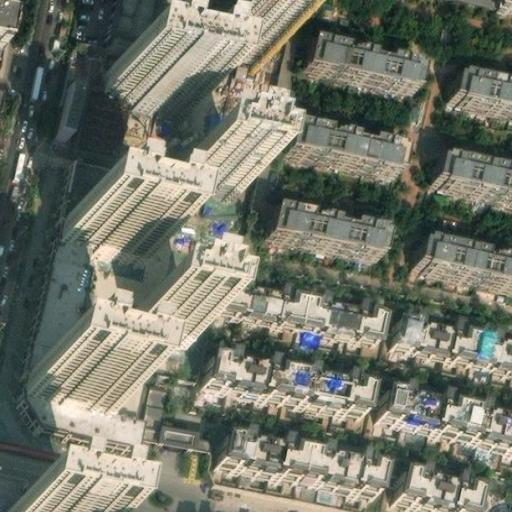building: (213, 431, 380, 497), (212, 275, 383, 338), (200, 348, 366, 411), (36, 230, 102, 363), (377, 382, 512, 447), (390, 308, 512, 366), (26, 383, 145, 438), (280, 124, 400, 175), (302, 38, 419, 90), (263, 206, 381, 257), (60, 191, 156, 247), (28, 344, 124, 400), (102, 47, 198, 103), (413, 238, 512, 287), (428, 151, 512, 196), (399, 468, 482, 512), (78, 83, 130, 146), (107, 0, 157, 65), (125, 295, 196, 337), (198, 17, 268, 59), (172, 154, 242, 196), (446, 74, 512, 115), (65, 155, 114, 209), (57, 80, 81, 132), (154, 423, 194, 448), (0, 499, 39, 512)
